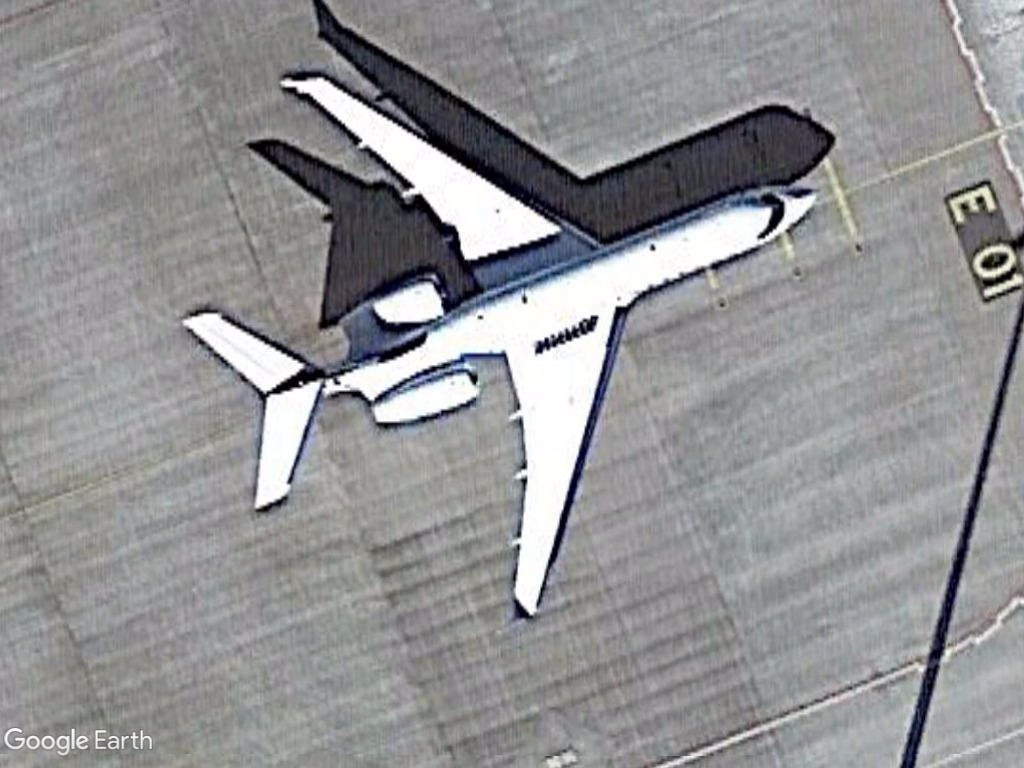chartered: (148, 63, 855, 635)
